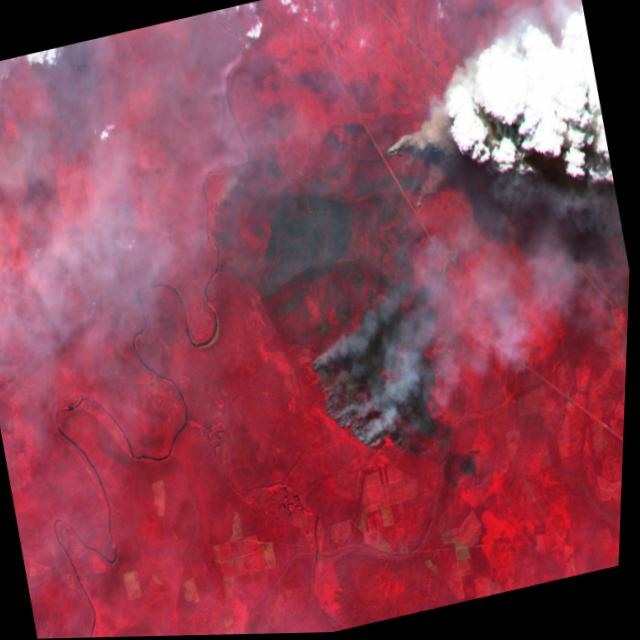fire: (263, 109, 527, 468)
